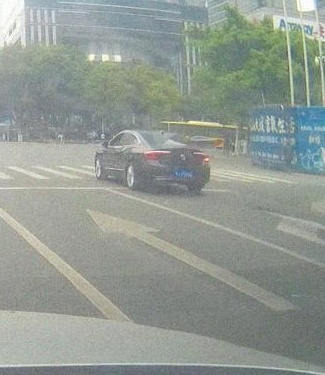L_light: (144, 150, 171, 161)
R_light: (192, 152, 210, 164)
T_light: (158, 132, 168, 135)
day-right: (136, 130, 211, 191)
